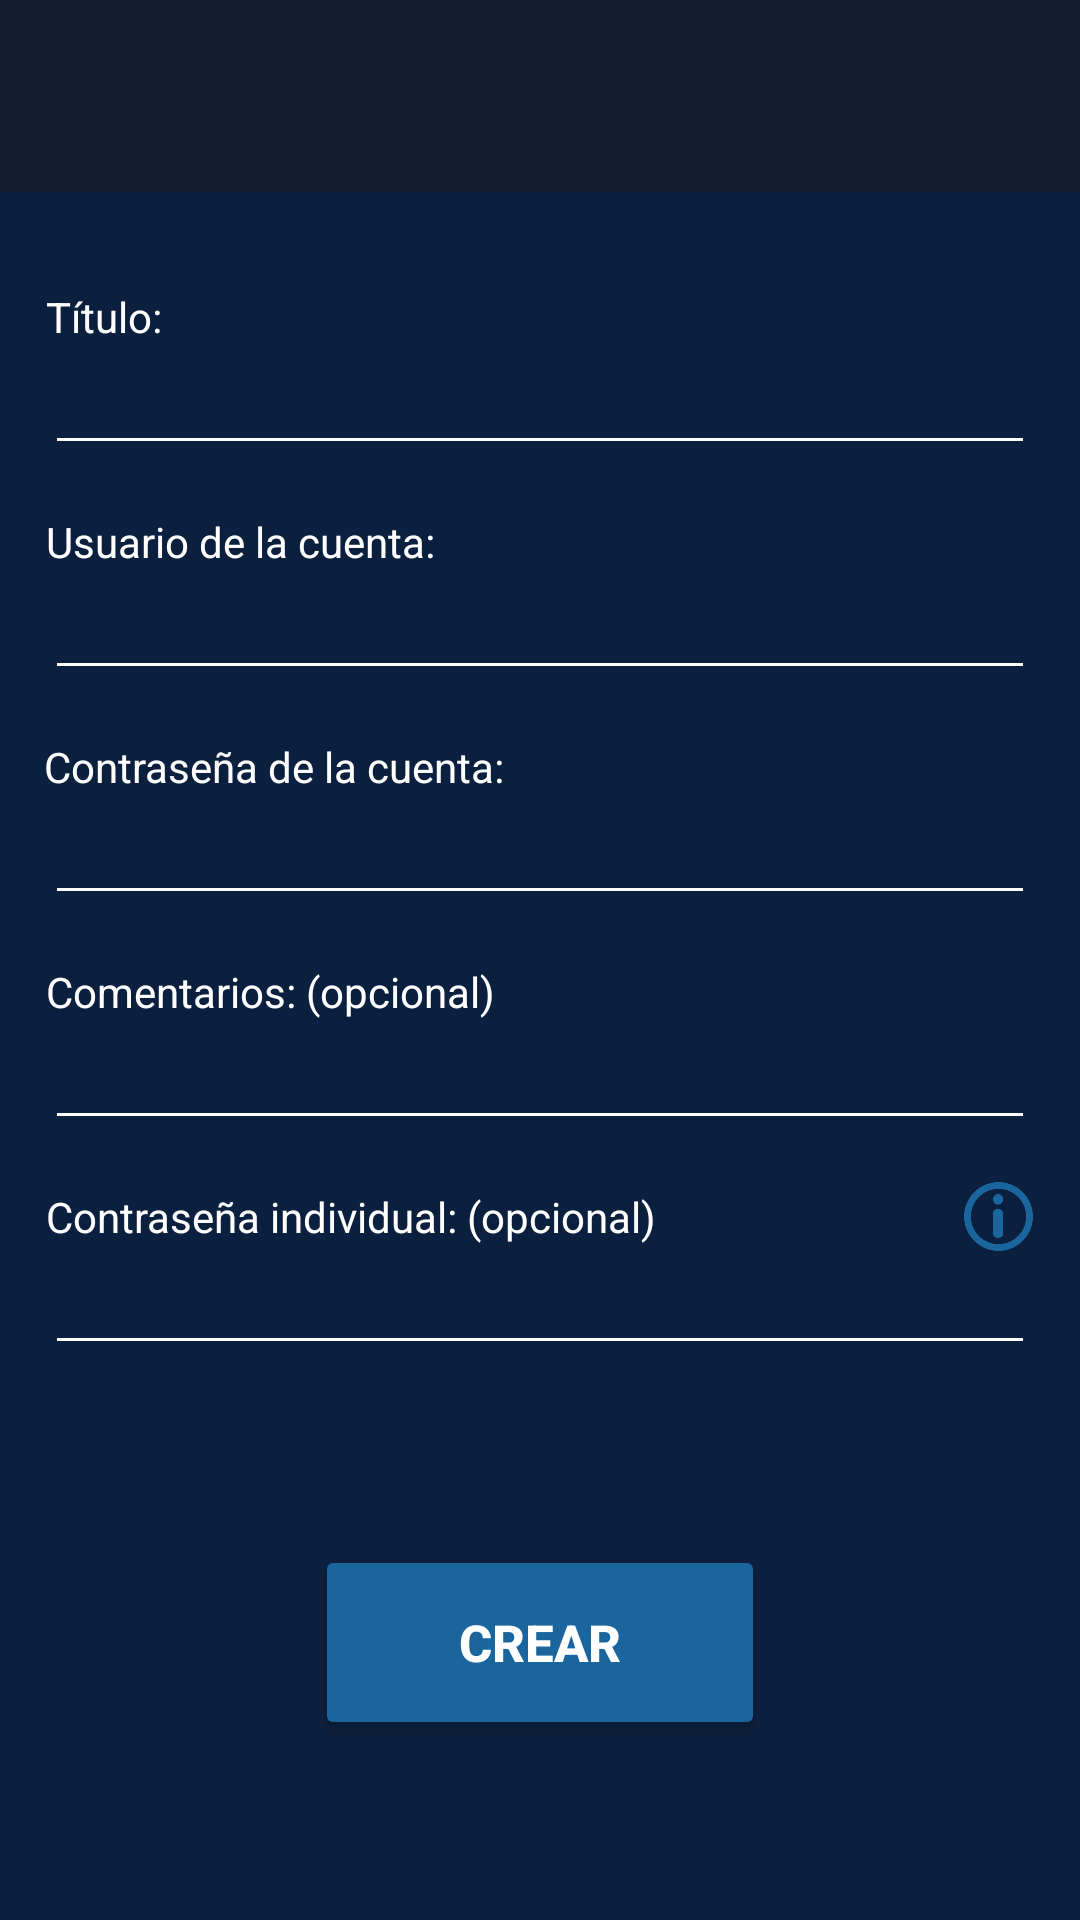

Icons on this 1080 x 1920 Android screen, each with the point to tap as point (x, y):
info: point (998, 1216)
